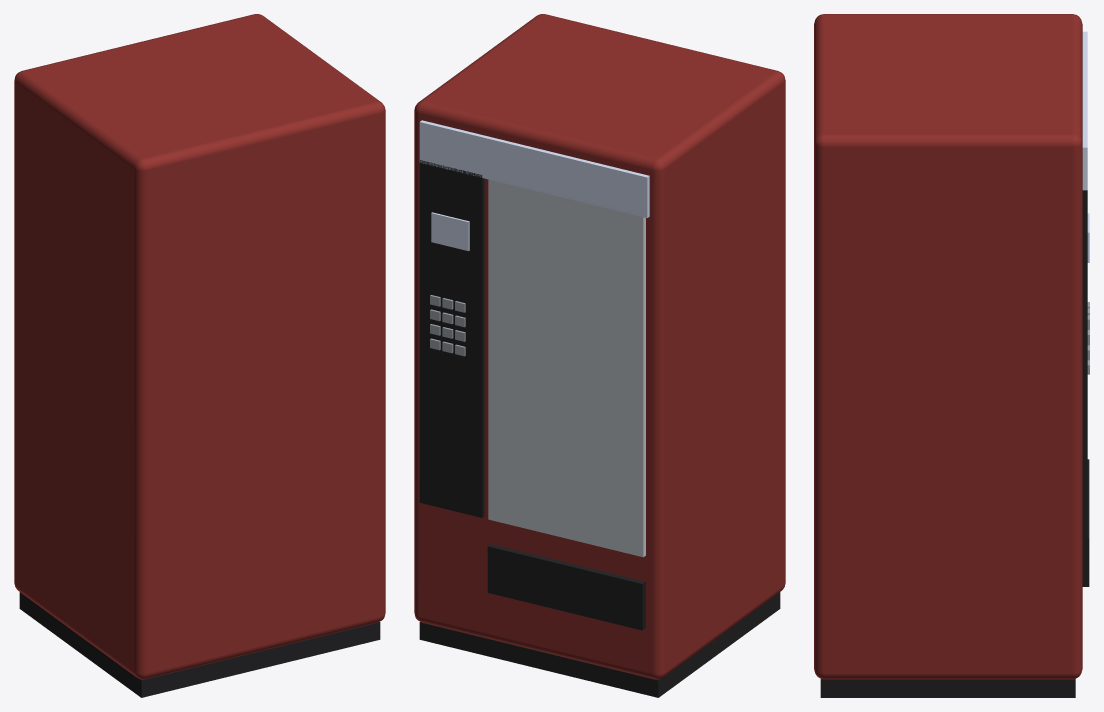
File: VENDING_MACHINE.glb
The picture shows the model from 3 angles, left to right: view 1: azimuth 30°, elevation 25°; view 2: azimuth 150°, elevation 25°; view 3: azimuth 270°, elevation 25°; orthographic projection. The views are drawn at different scales.
Visible parts, largest first — view 1: paint_0, tread_1; view 2: paint_0, clearGlass_5, tread_1, screen_2, steel_3; view 3: paint_0, tread_1, screen_2.
Part boxes in pixels (x1,y1,x2,y2): paint_0: [14, 14, 385, 679]; tread_1: [19, 592, 380, 697]; paint_0: [414, 14, 785, 679]; clearGlass_5: [488, 179, 645, 557]; tread_1: [419, 160, 780, 697]; screen_2: [419, 120, 649, 250]; steel_3: [430, 295, 465, 356]; paint_0: [814, 14, 1082, 679]; tread_1: [820, 190, 1089, 697]; screen_2: [1082, 31, 1089, 262].
Size of the model in its own units: 0.9 by 1.85 by 0.822.
